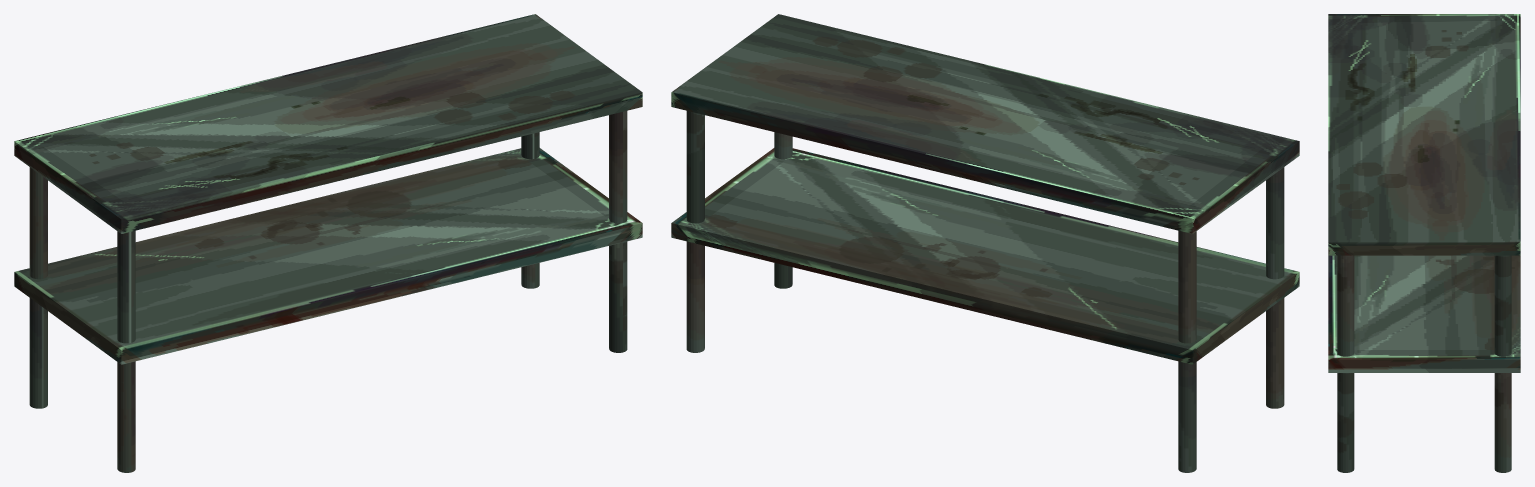
Rendered from SM_table1.fbx.
3 views of the same model, side by side, from view 1: azimuth 30°, elevation 25°; view 2: azimuth 150°, elevation 25°; view 3: azimuth 270°, elevation 25° (orthographic). The views are drawn at different scales.
Visible parts, largest first — view 1: SM_table1; view 2: SM_table1; view 3: SM_table1.
Boxes of the visible parts, left/top/right/bottom form: SM_table1: left=14, top=14, right=642, bottom=472; SM_table1: left=671, top=14, right=1299, bottom=472; SM_table1: left=1328, top=14, right=1520, bottom=472.
Bounding box in the file's own units: 182 × 86.88 × 64.75.
